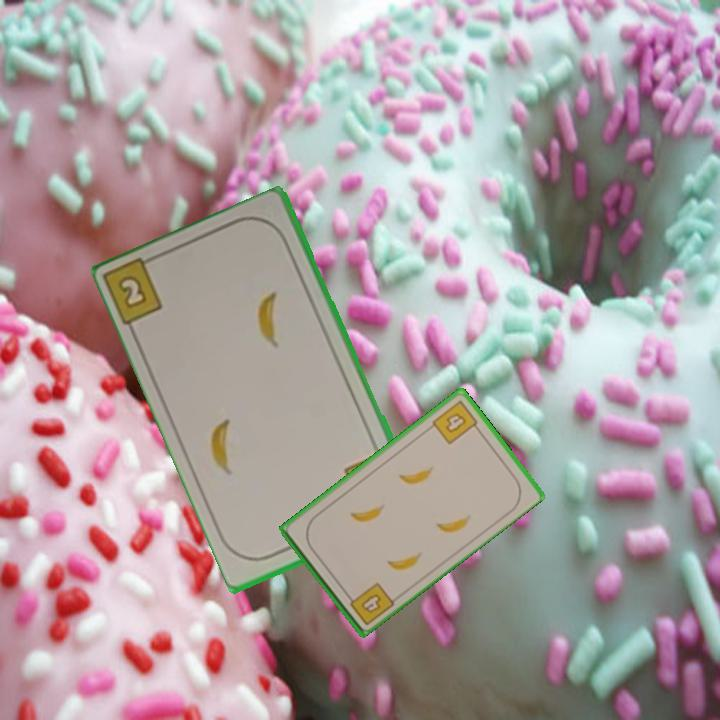2b: (103, 251, 166, 330)
4b: (428, 396, 483, 447), (342, 578, 397, 628)
